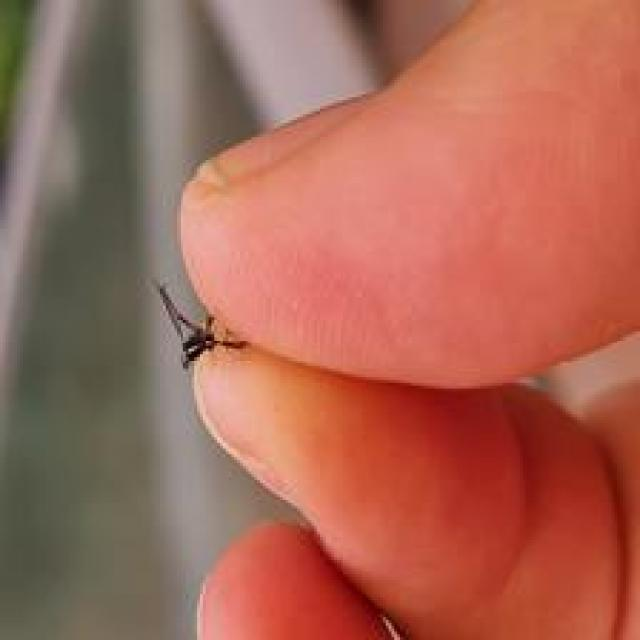Aedes albopictus: (154, 280, 249, 371)
